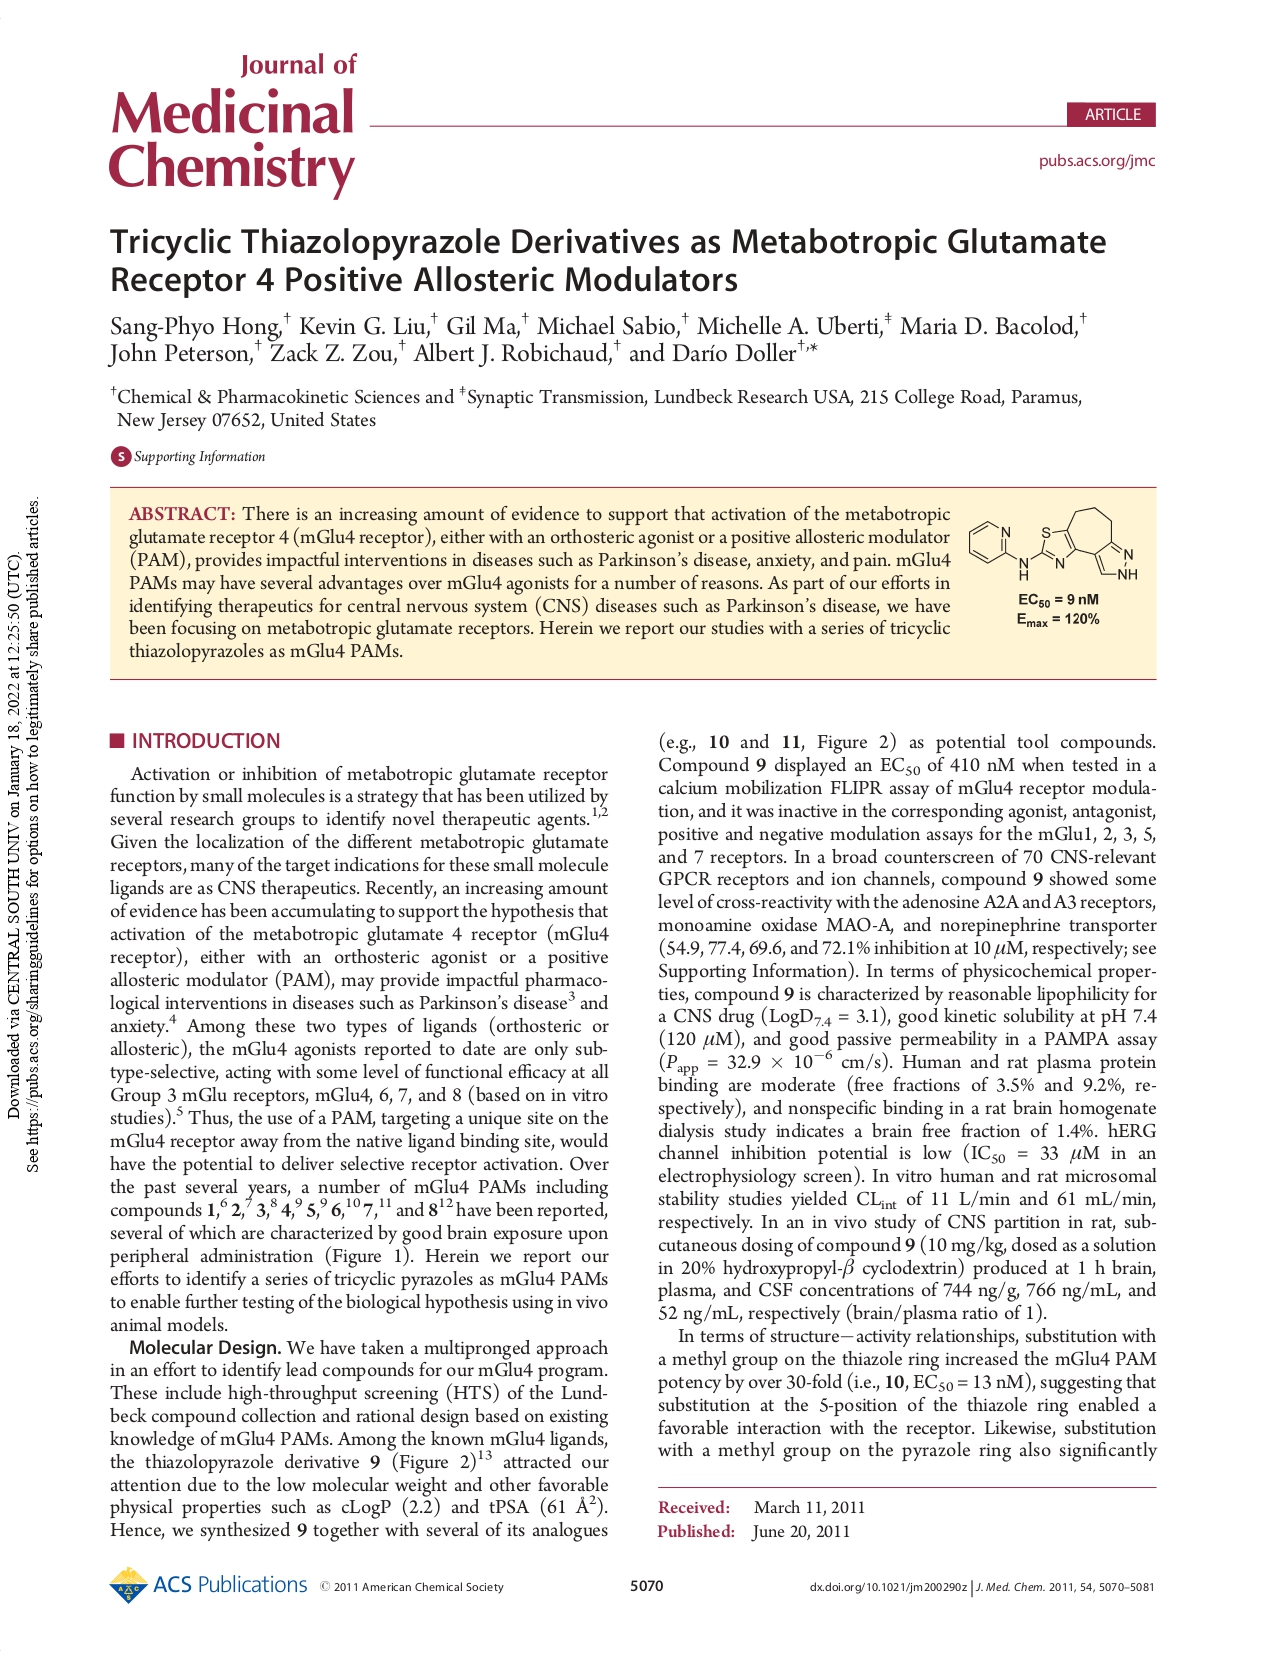exist_molecular: (967, 504, 1138, 585)
